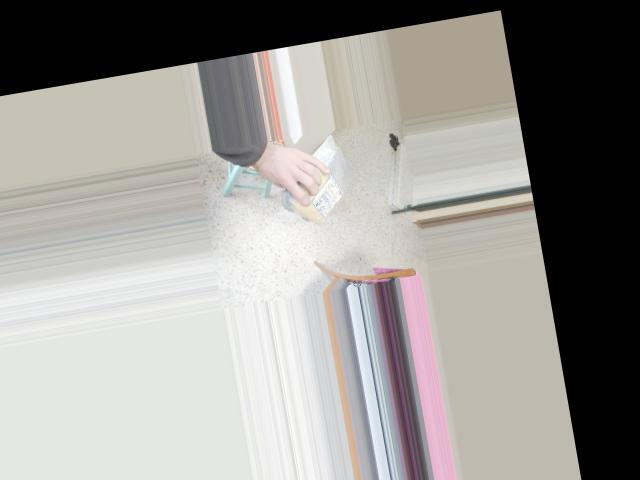cheese: (277, 135, 353, 227)
